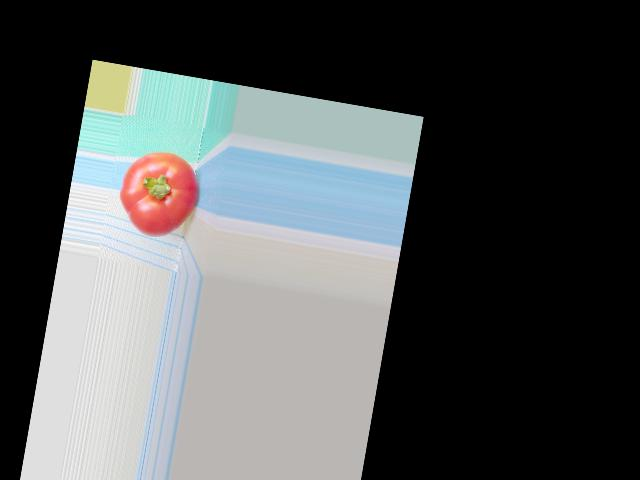tomato: (113, 145, 204, 242)
